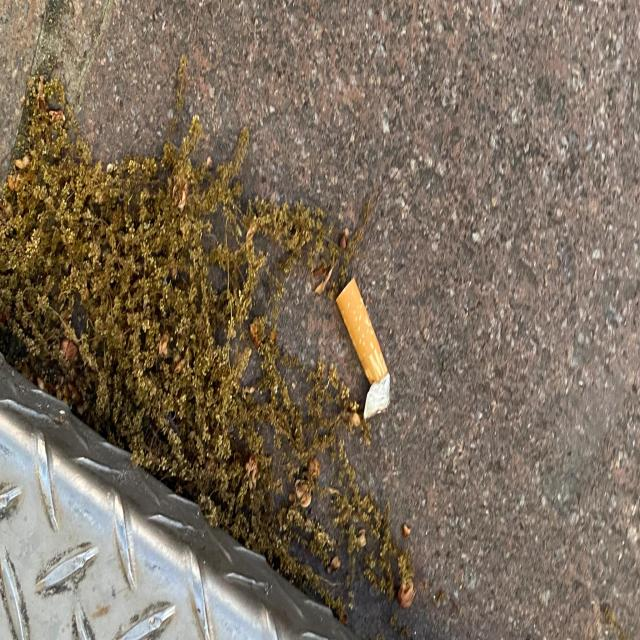other waste: (335, 275, 391, 424)
